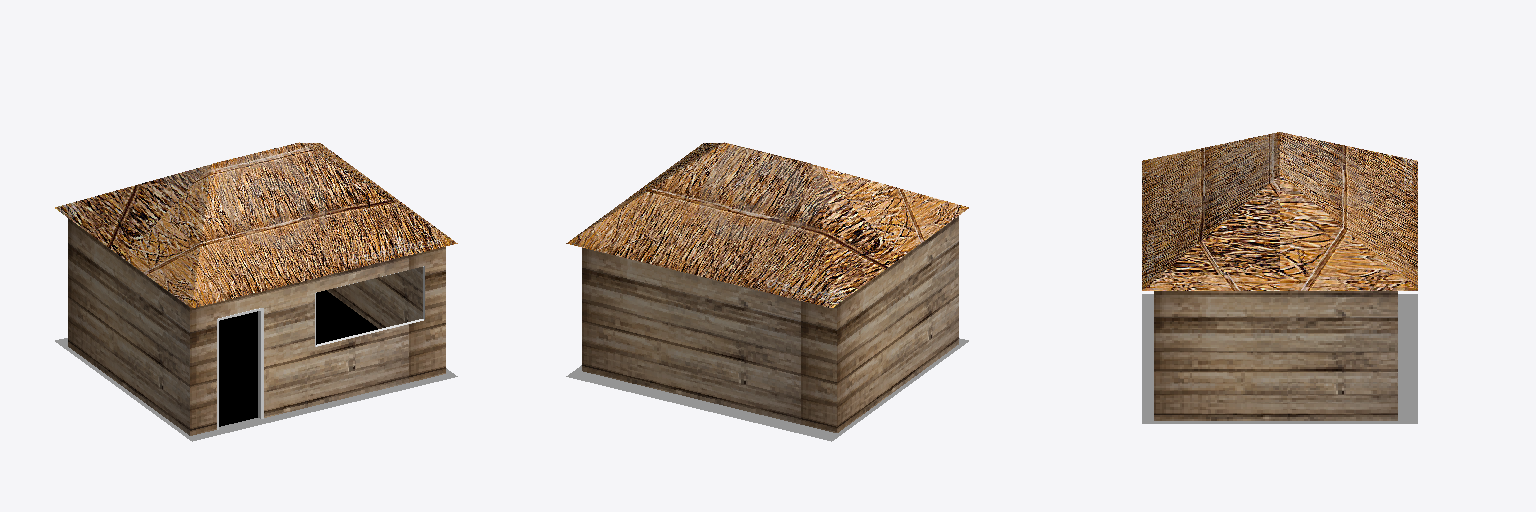
3 views of the same model, side by side, from view 1: azimuth 30°, elevation 25°; view 2: azimuth 150°, elevation 25°; view 3: azimuth 270°, elevation 25° (orthographic).
Visible parts, largest first — view 1: polySurface1; view 2: polySurface1; view 3: polySurface1.
Part boxes in pixels (x1,y1,x2,y2): polySurface1: (55,142,457,441); polySurface1: (566,142,968,441); polySurface1: (1142,132,1417,423).
Size of the model in its own units: 157 by 116 by 141.
Materials: 6 (2 with a texture image).